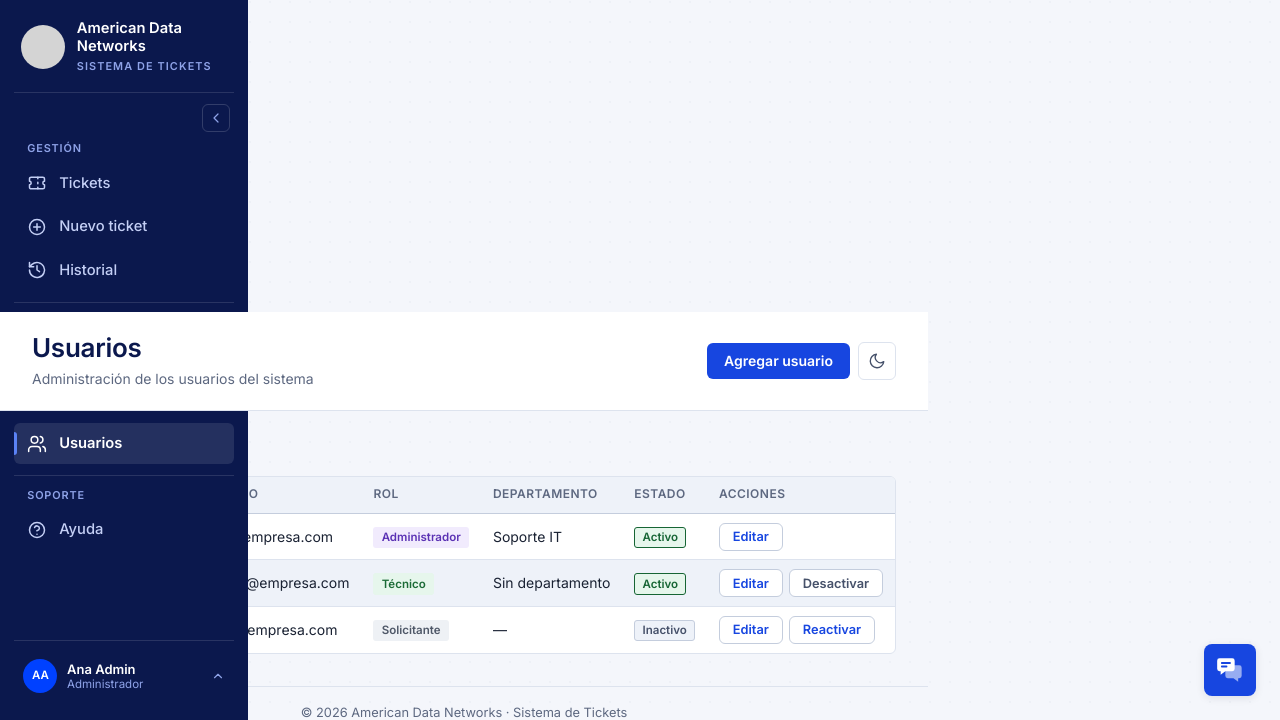
Test case: Usuarios (/usuarios) › 409: el correo repetido va debajo de su campo
(page scrolled)
expect the text "tomas@empresa.com" is shown: met, box [194,560,362,607]
Click the button "Agregar usuario".
click(779, 361)  # box [707,343,850,379]
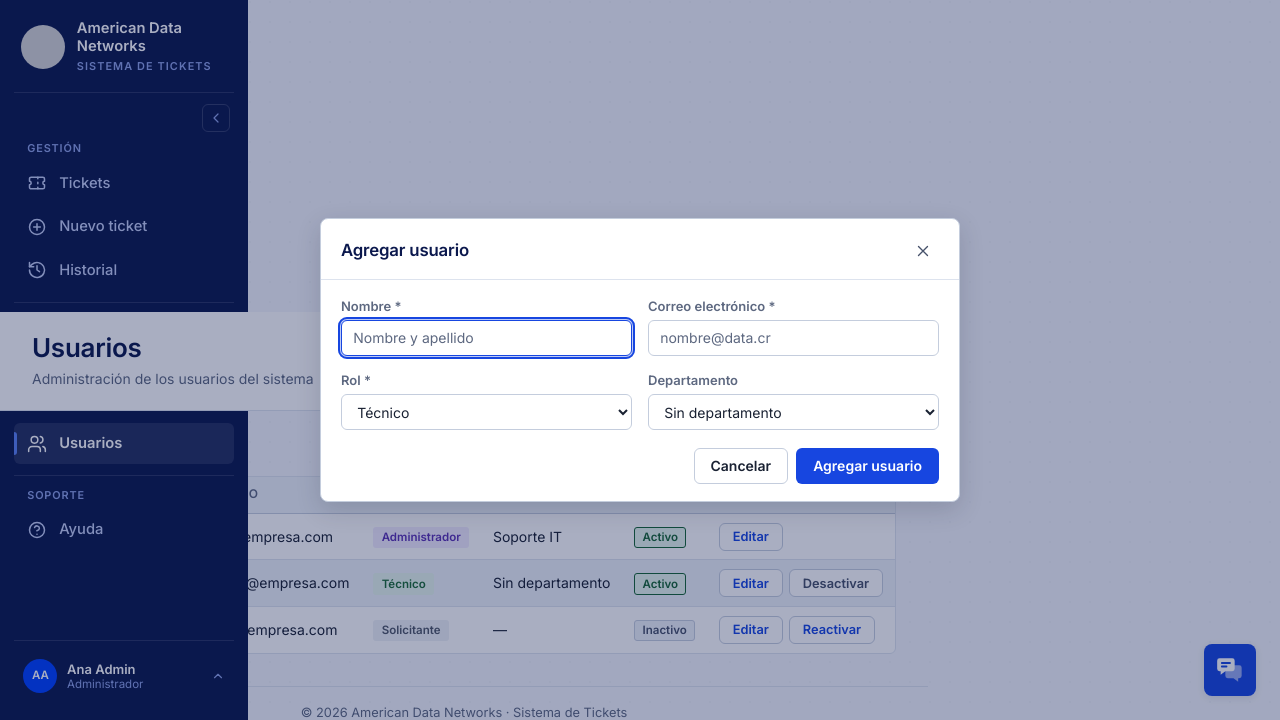
Type "Ana" into the field with id "nombre".
click(486, 338); type("Ana")  # box [341,320,632,356]
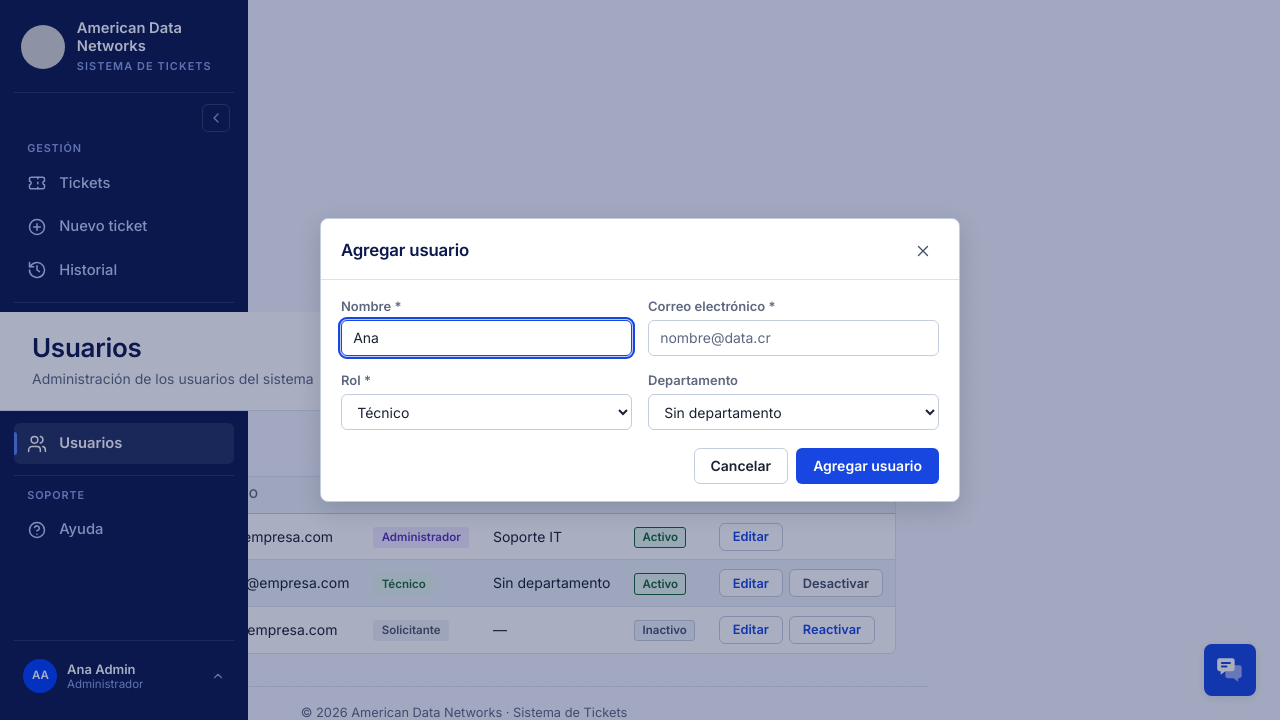
Type "ana@empresa.com" into the field with id "email".
click(794, 338); type("ana@empresa.com")  # box [648,320,939,356]
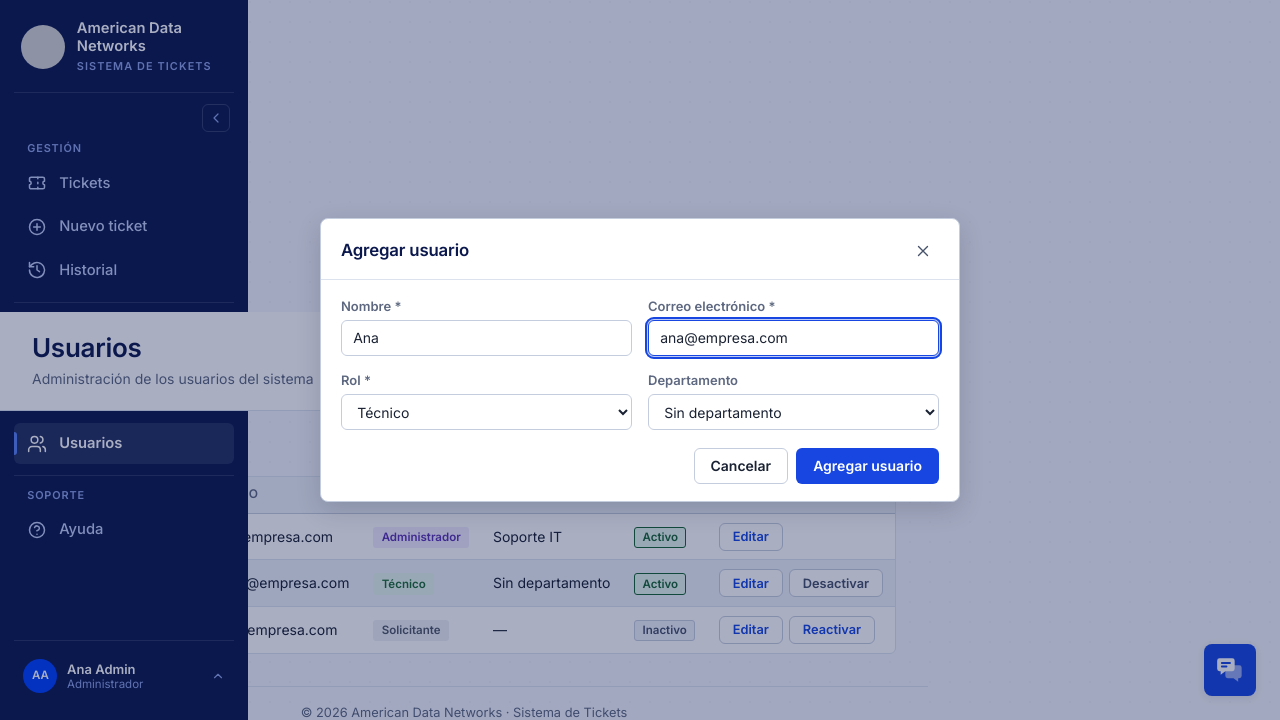
Click the button "Agregar usuario".
click(868, 466)  # box [796,448,939,484]
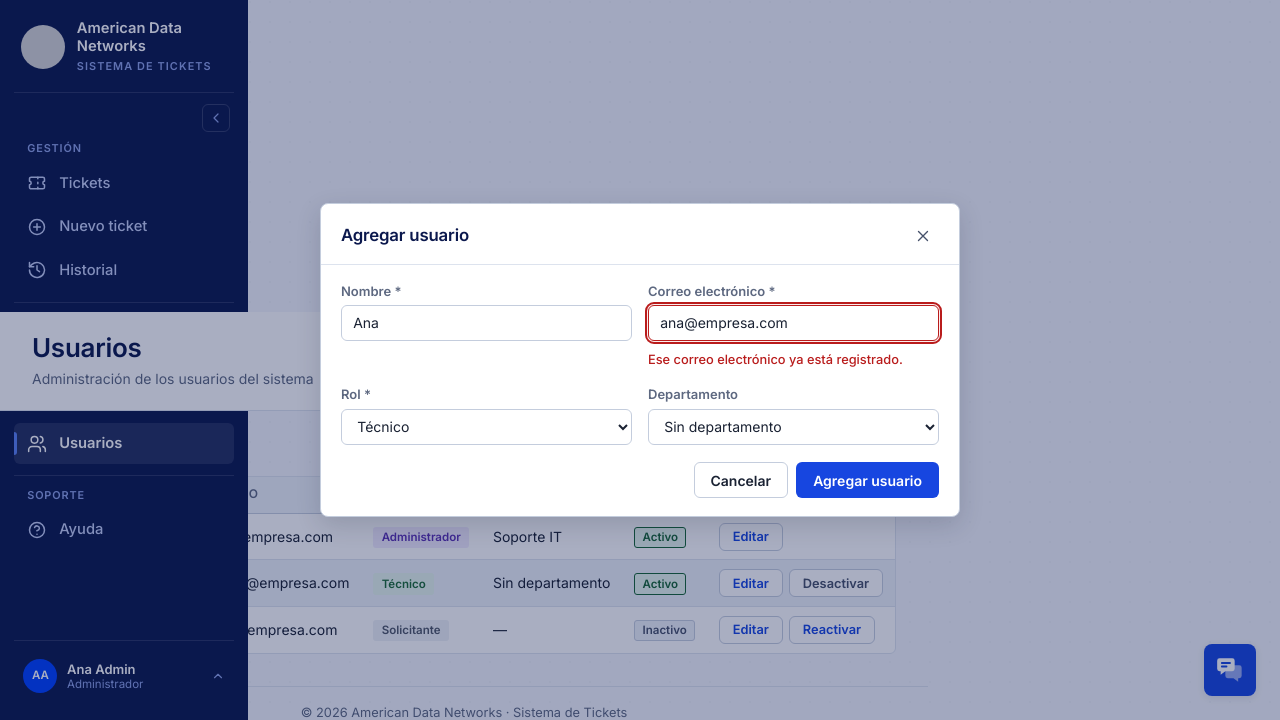
expect the message with id "error-email" reads "Ese correo electrónico ya está registrado.": met, box [648,352,903,367]
